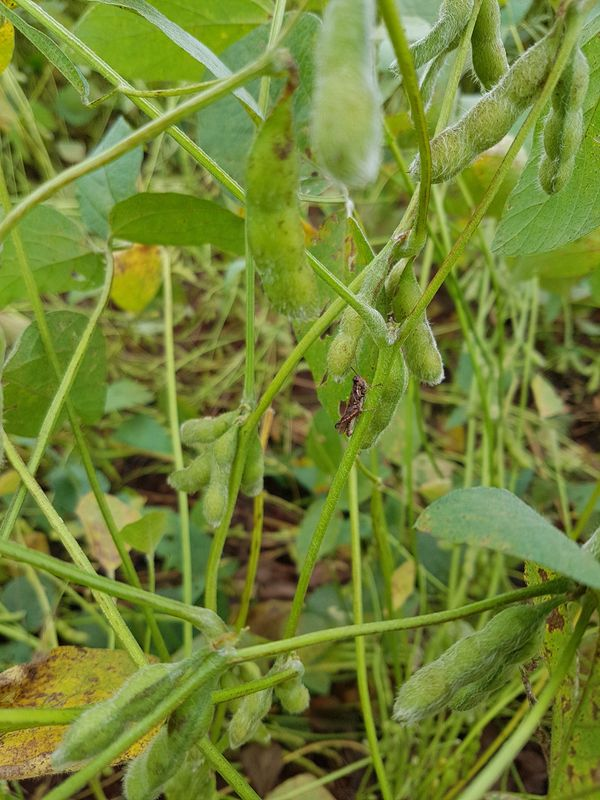Rhammatocerus_schistocercoides: (326, 359, 388, 446)
